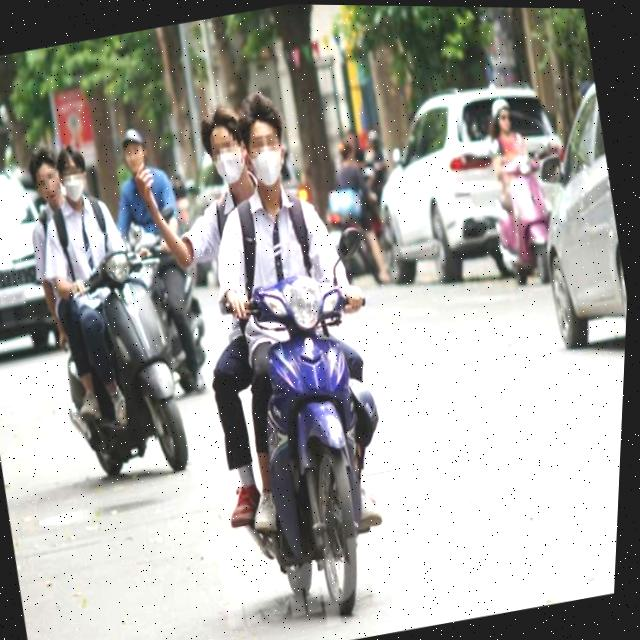car: (354, 72, 578, 296), (507, 76, 637, 377), (0, 154, 78, 369)
motorcycle: (180, 245, 431, 640), (30, 221, 215, 496)
